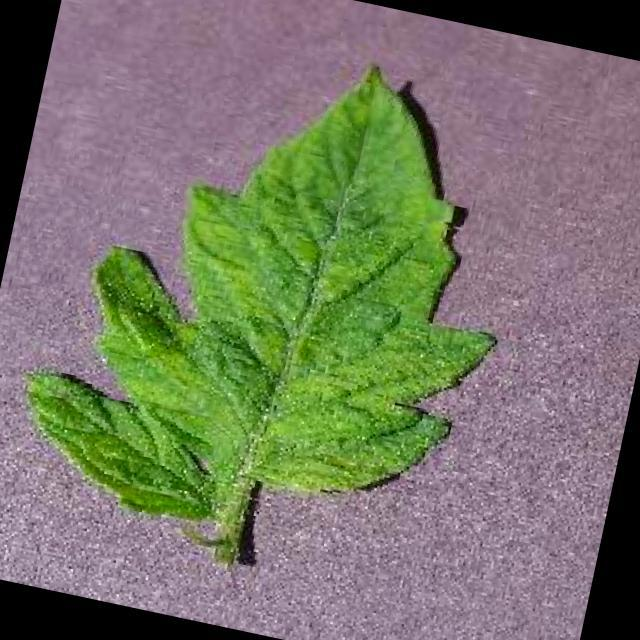Tomato mosaic virus leaf: (8, 8, 550, 579)
